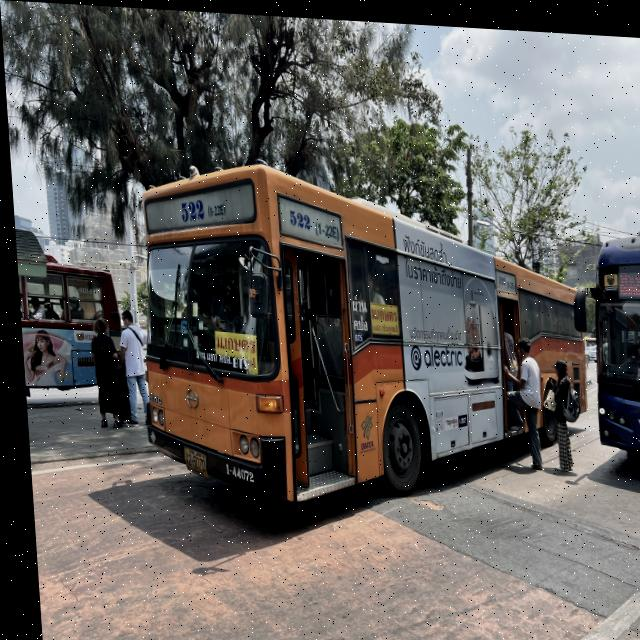BMTA-bus: (125, 155, 594, 517)
Bus-Line-Number: (279, 200, 338, 242), (175, 194, 227, 225)
Destination-Sign-Extra-Bus-Expressway: (210, 327, 253, 375)
Destination-Sign-Normal: (613, 258, 640, 293)
TSB-Bus: (582, 220, 640, 462)
